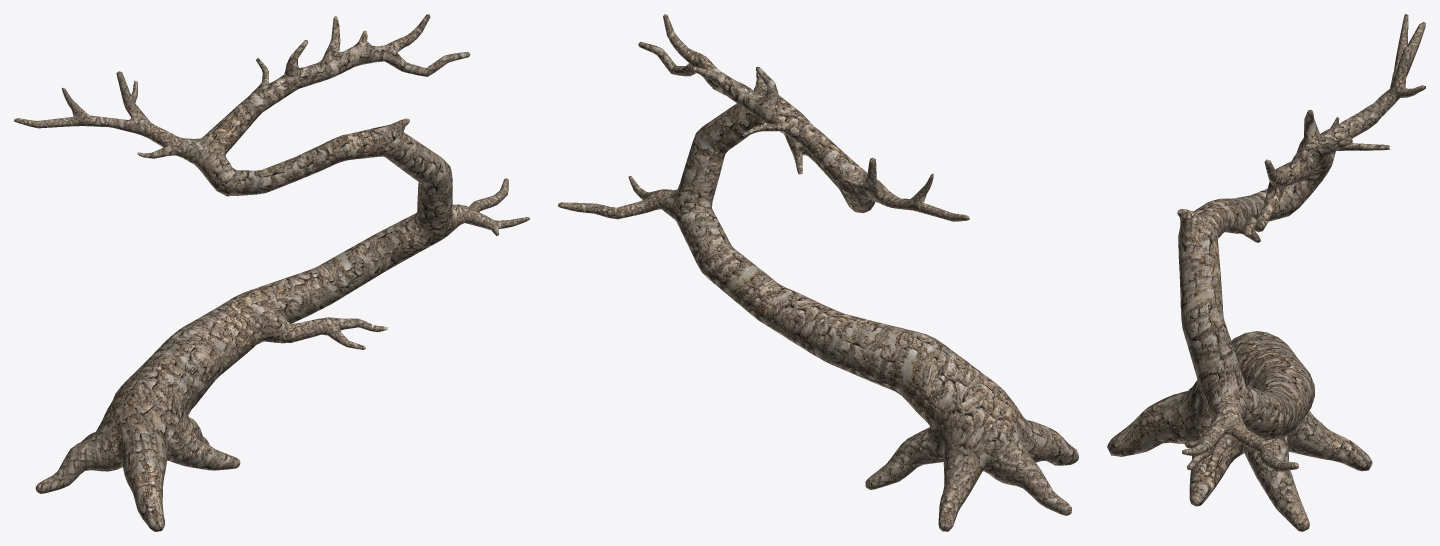
File: TreeFour.fbx
The picture shows the model from 3 angles, left to right: view 1: azimuth 30°, elevation 25°; view 2: azimuth 150°, elevation 25°; view 3: azimuth 270°, elevation 25°; orthographic projection. The views are drawn at different scales.
Visible parts, largest first — view 1: Tree_4; view 2: Tree_4; view 3: Tree_4.
Part boxes in pixels (x1,y1,x2,y2): Tree_4: (14,14,529,531); Tree_4: (558,14,1078,531); Tree_4: (1107,14,1425,531).
Bounding box in the file's own units: 715 × 559 × 321.
